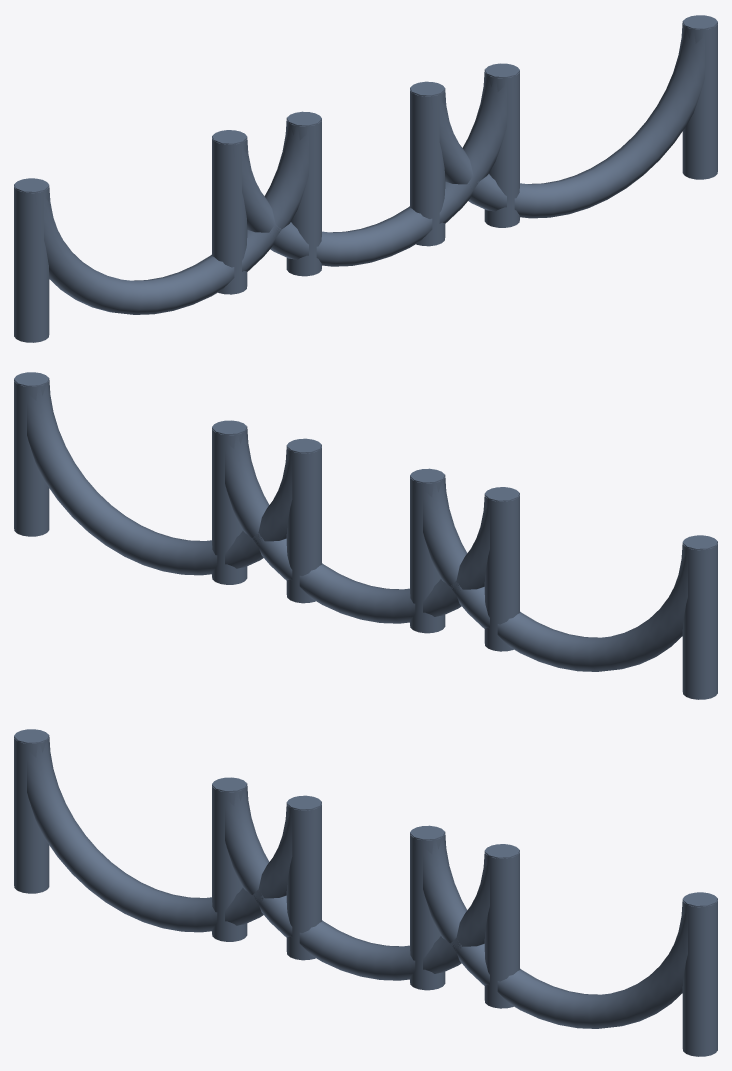
The model's file is bike-rack.glb.
3 views of the same model, one above another, from view 1: azimuth 30°, elevation 25°; view 2: azimuth 150°, elevation 25°; view 3: azimuth 330°, elevation 25° (orthographic).
Bounding box in the file's own units: 3.18 × 0.69 × 0.14.
